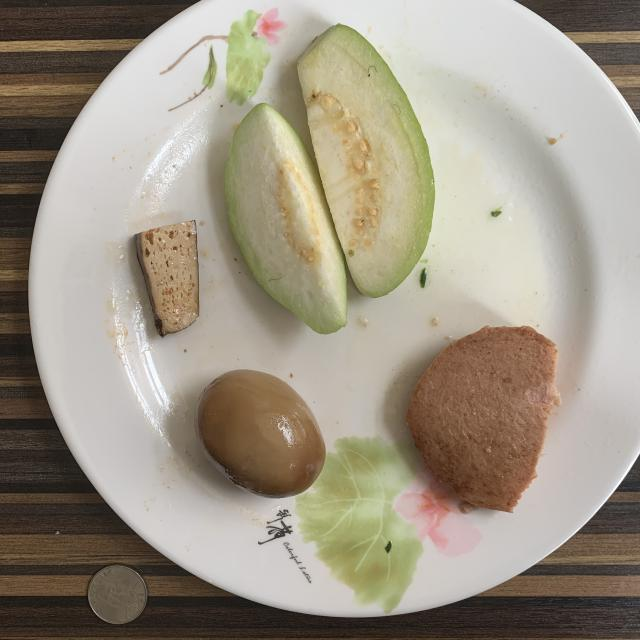Spam: (406, 326, 558, 511)
coin: (88, 565, 148, 624)
firm tofu: (134, 220, 199, 336)
guava -sliced-: (225, 24, 435, 334)
soy egg: (195, 370, 325, 498)
